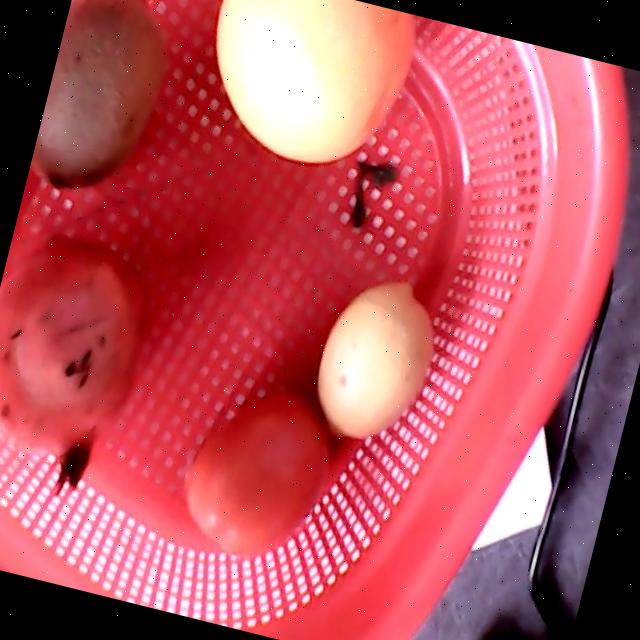kiwi: (33, 0, 165, 189)
lemon: (315, 278, 434, 437)
orange: (214, 0, 416, 164)
pomegranate: (0, 233, 149, 493)
tomato: (186, 387, 327, 559)
